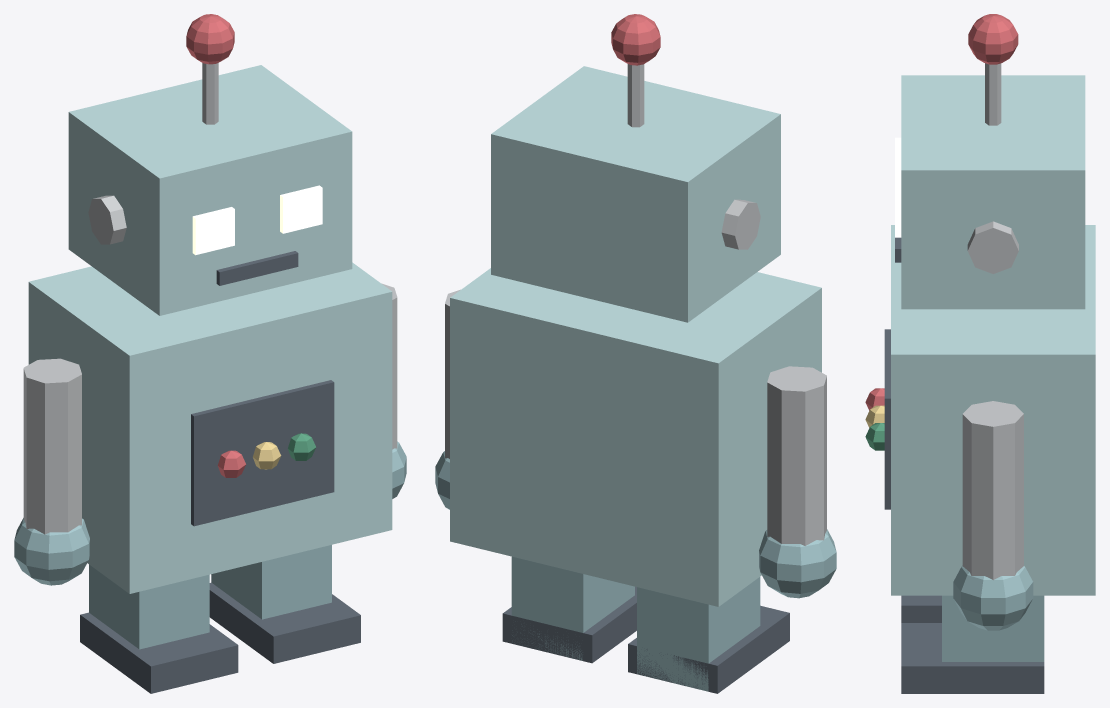
File: toy_robot.glb
The picture shows the model from 3 angles, left to right: view 1: azimuth 30°, elevation 25°; view 2: azimuth 150°, elevation 25°; view 3: azimuth 270°, elevation 25°; orthographic projection. The views are drawn at different scales.
Visible parts, largest first — view 1: Body, Foot.-1, Leg.-1, Arm.-1, Eye.-1, Button.0, Button.1, Button.2; view 2: Body, Leg.-1, Arm.-1, Foot.-1, Button.0; view 3: Body, Arm.-1, Foot.-1, Leg.-1, Button.0, Eye.-1, Button.2.
Boxes of the visible parts, <box> form: Body: <box>28,65,392,593</box>; Foot.-1: <box>80,251,360,693</box>; Leg.-1: <box>14,441,406,649</box>; Arm.-1: <box>23,63,397,534</box>; Eye.-1: <box>192,185,322,255</box>; Button.0: <box>186,14,246,477</box>; Button.1: <box>253,442,281,469</box>; Button.2: <box>288,433,316,460</box>; Body: <box>450,66,821,606</box>; Leg.-1: <box>435,451,836,691</box>; Arm.-1: <box>445,64,826,545</box>; Foot.-1: <box>502,586,789,693</box>; Button.0: <box>611,14,660,65</box>; Body: <box>891,75,1095,595</box>; Arm.-1: <box>962,63,1023,580</box>; Foot.-1: <box>884,237,1044,693</box>; Leg.-1: <box>942,565,1044,661</box>; Button.0: <box>865,14,1018,410</box>; Eye.-1: <box>895,137,901,237</box>; Button.2: <box>865,423,884,450</box>.
Bounding box in the file's own units: 0.4342 × 0.675 × 0.225.
